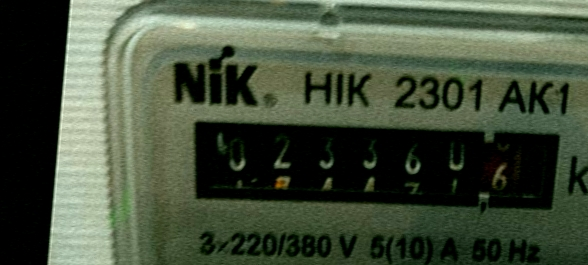0: (223, 131, 251, 175), (443, 135, 470, 173)
2: (267, 129, 296, 171)
3: (356, 132, 381, 172), (314, 131, 338, 172)
6: (398, 136, 427, 179), (489, 158, 513, 195)
screen: (166, 87, 575, 239)
